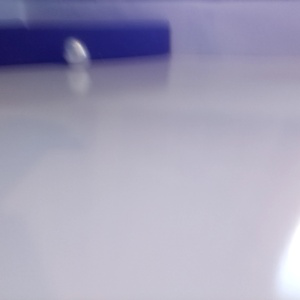zone: (1, 21, 170, 65)
